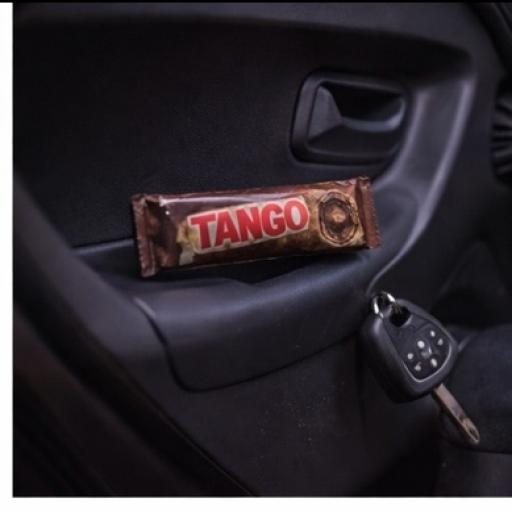tango: (111, 143, 464, 356)
